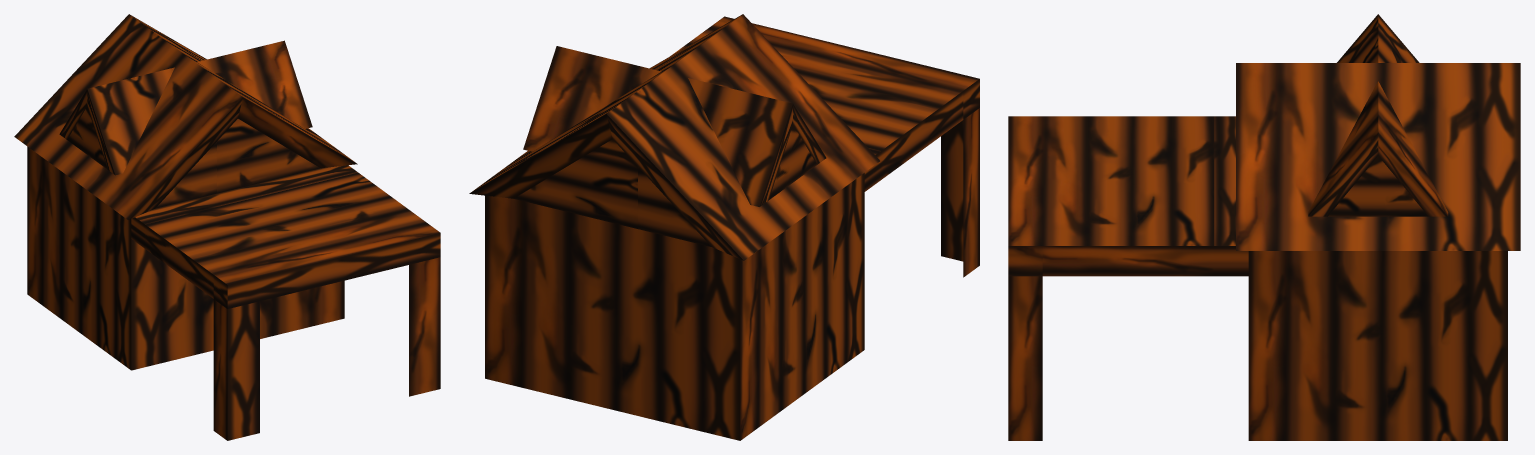
The model's file is gongon_foodshop.fbx.
3 views of the same model, side by side, from view 1: azimuth 30°, elevation 25°; view 2: azimuth 150°, elevation 25°; view 3: azimuth 270°, elevation 25° (orthographic). The views are drawn at different scales.
Visible parts, largest first — view 1: FoodShopTop, FoodShopSheld, FoodShopBody; view 2: FoodShopBody, FoodShopTop, FoodShopSheld; view 3: FoodShopTop, FoodShopBody, FoodShopSheld.
Boxes of the visible parts, left/top/right/bottom form: FoodShopTop: left=14, top=14, right=357, bottom=219; FoodShopSheld: left=131, top=165, right=440, bottom=440; FoodShopBody: left=27, top=146, right=344, bottom=370; FoodShopBody: left=485, top=173, right=864, bottom=440; FoodShopTop: left=469, top=14, right=879, bottom=260; FoodShopSheld: left=671, top=16, right=979, bottom=277; FoodShopTop: left=1236, top=14, right=1520, bottom=250; FoodShopBody: left=1248, top=251, right=1507, bottom=440; FoodShopSheld: left=1008, top=116, right=1248, bottom=440.
Bounding box in the file's own units: 1294 × 1351 × 2002.
